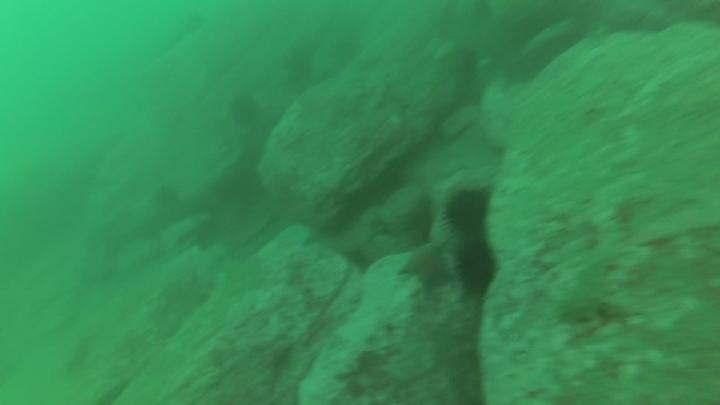echinus: (440, 188, 494, 236), (452, 246, 498, 294), (229, 94, 264, 130), (152, 183, 182, 211), (333, 42, 360, 69), (182, 12, 205, 35)
starfish: (400, 240, 454, 296)
